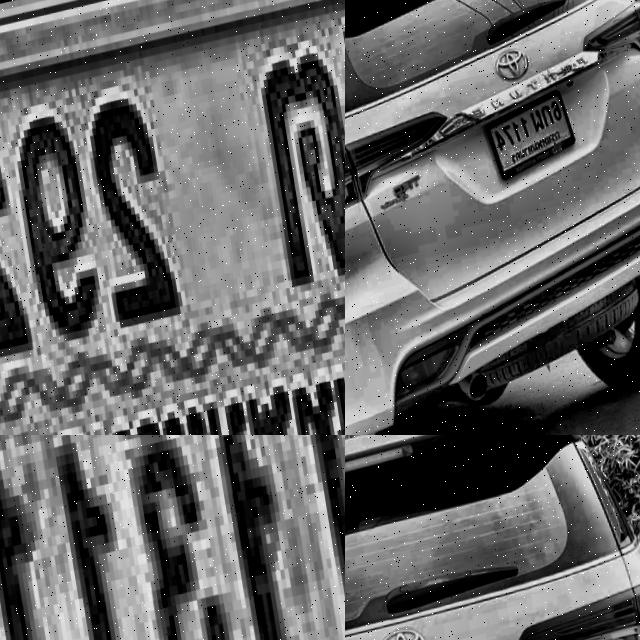license-plate: (0, 0, 345, 435), (0, 435, 345, 640), (478, 91, 578, 192)
